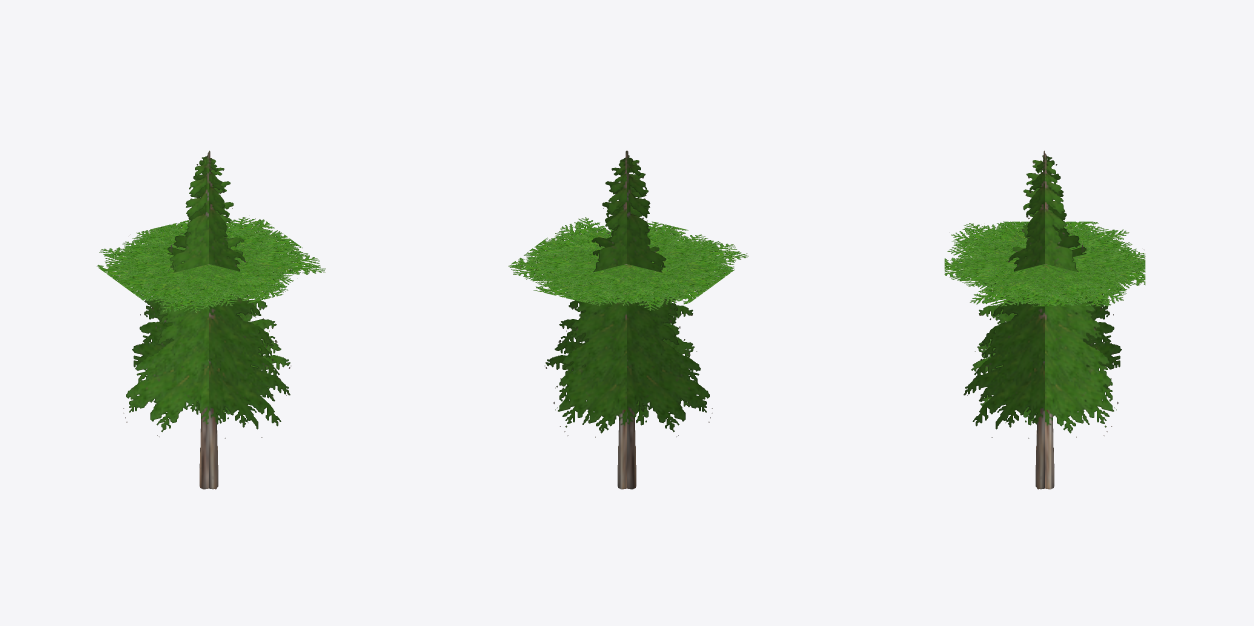
Rendered from tree_conifer_03_far.glb.
The picture shows the model from 3 angles, left to right: view 1: azimuth 30°, elevation 25°; view 2: azimuth 150°, elevation 25°; view 3: azimuth 270°, elevation 25°; orthographic projection.
Parts seen in each view (by area): view 1: env; view 2: env; view 3: env.
Part boxes in pixels (bbox=[...]): env: bbox=[97, 150, 325, 489]; env: bbox=[508, 150, 748, 489]; env: bbox=[944, 150, 1145, 489].
Size of the model in its own units: 5.83 by 5.83 by 5.05.
Materials: 1 (1 with a texture image).
